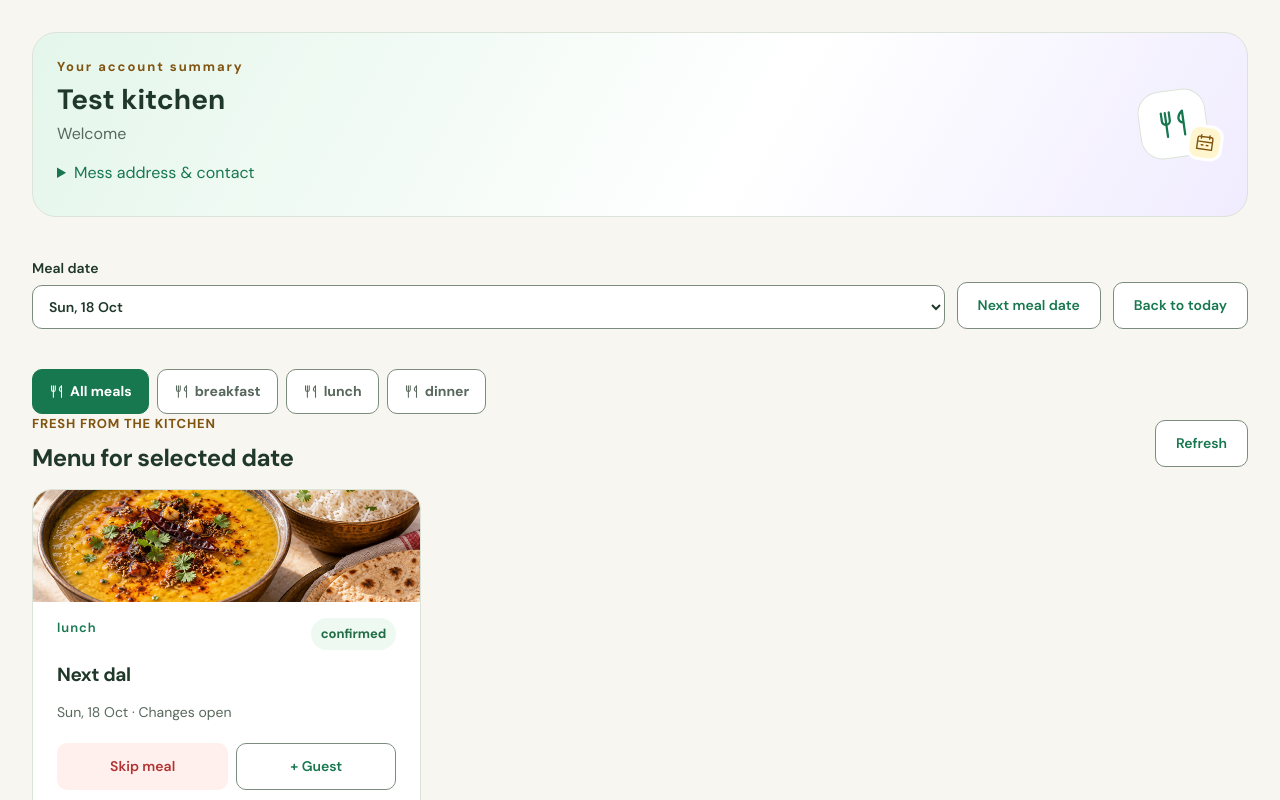
Test: defaults to the next date and keeps every date reachable
Check: the heading "Next dal" is shown, box [57, 662, 131, 687]
Check: the heading "Later paneer" is not shown
Select "Sun, 25 Oct" in the dropdown labelled "Meal date" at (488, 307), box [32, 285, 945, 329]
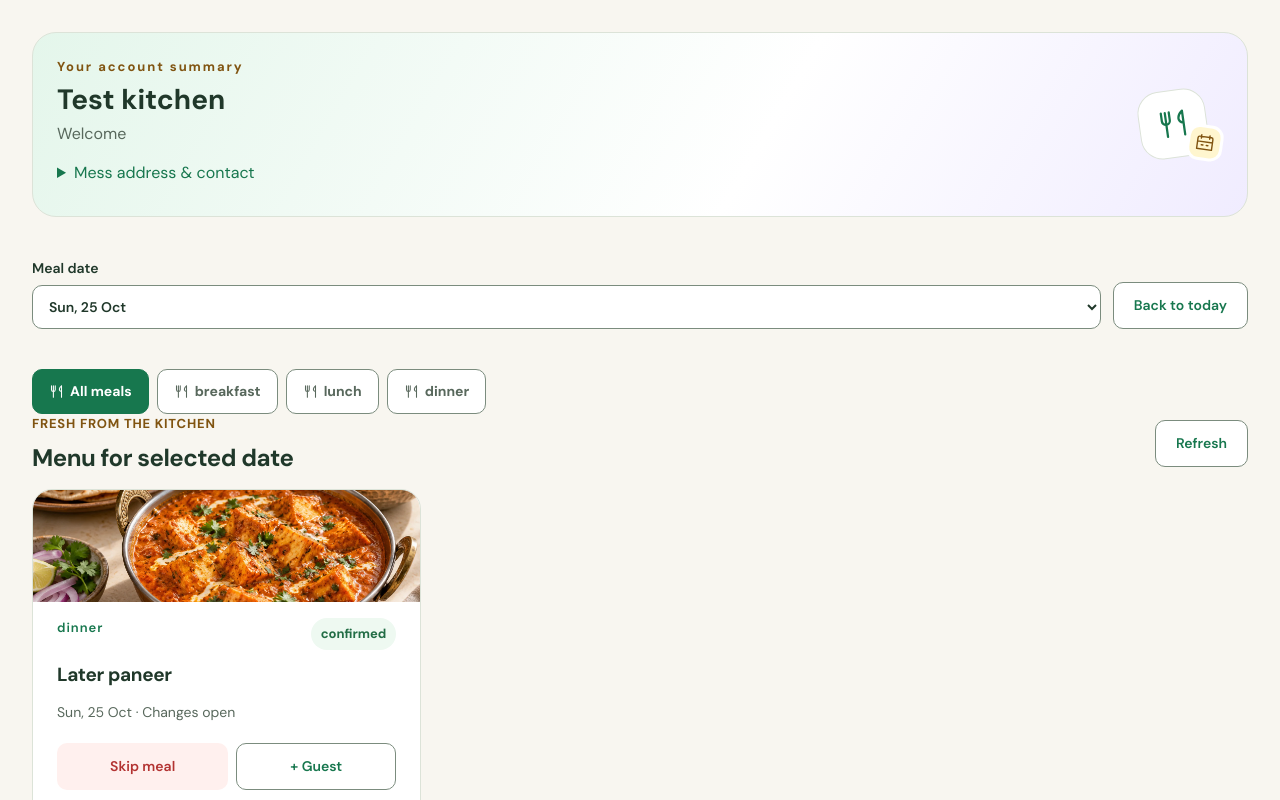
Check: the heading "Later paneer" is shown, box [57, 662, 172, 687]
